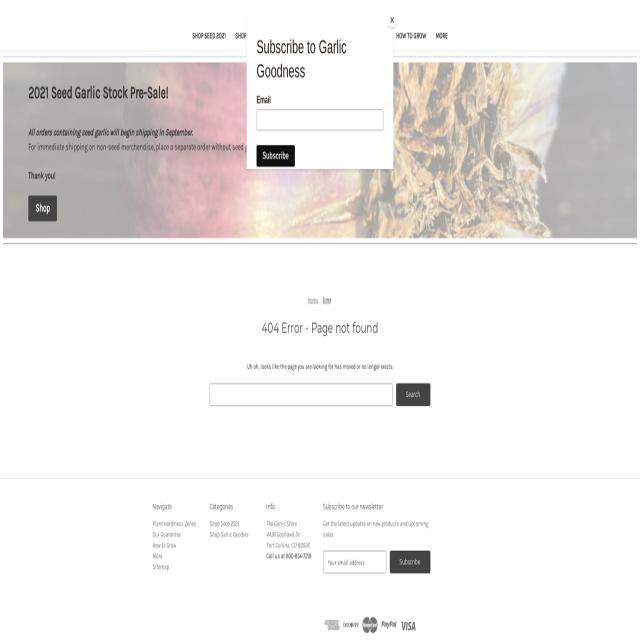button: (324, 617, 340, 632), (362, 617, 378, 632), (400, 617, 416, 632), (344, 617, 358, 632), (382, 617, 396, 632)
field: (210, 383, 392, 406), (323, 551, 387, 573), (390, 551, 430, 573), (396, 383, 430, 406)
